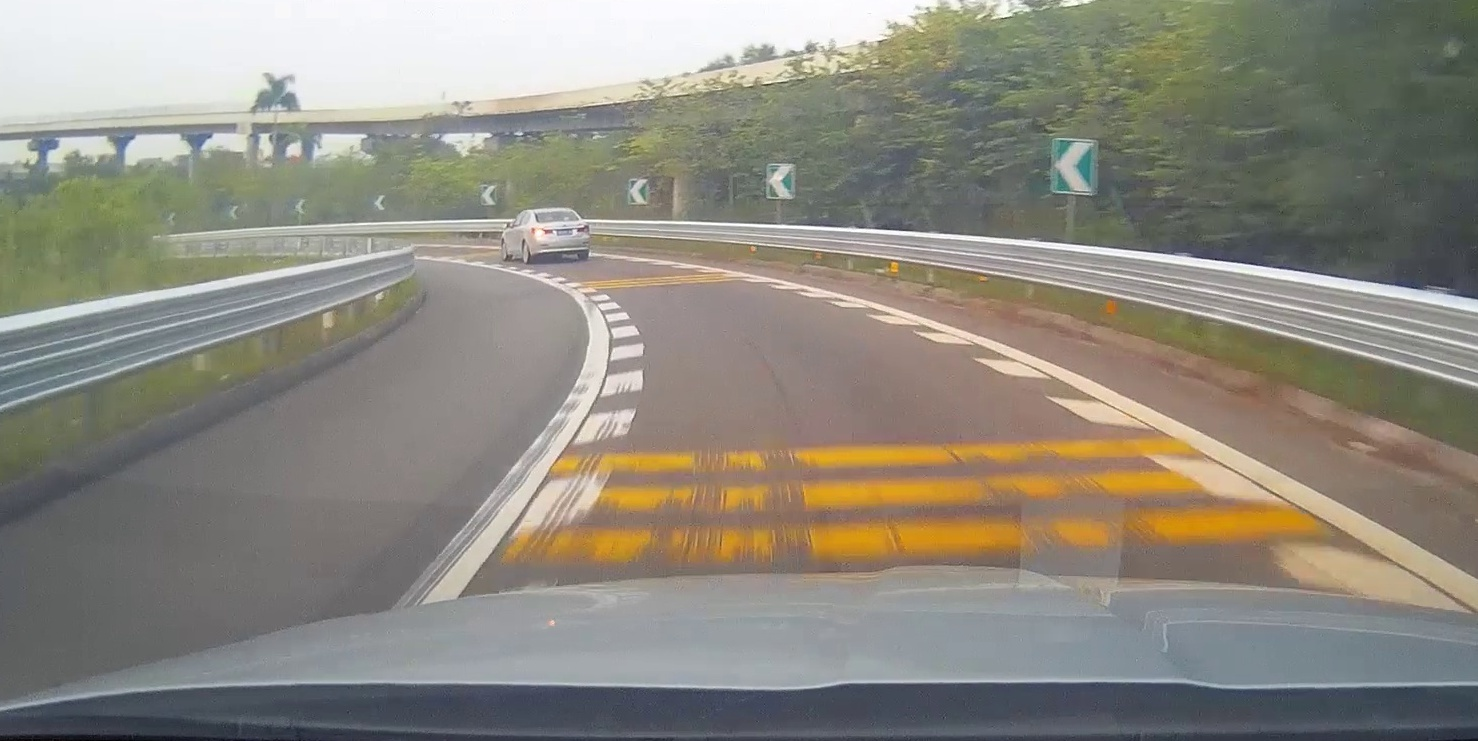L_light: (531, 227, 553, 234)
R_light: (577, 225, 589, 232)
T_light: (549, 212, 560, 214)
day-left: (529, 208, 590, 265)
